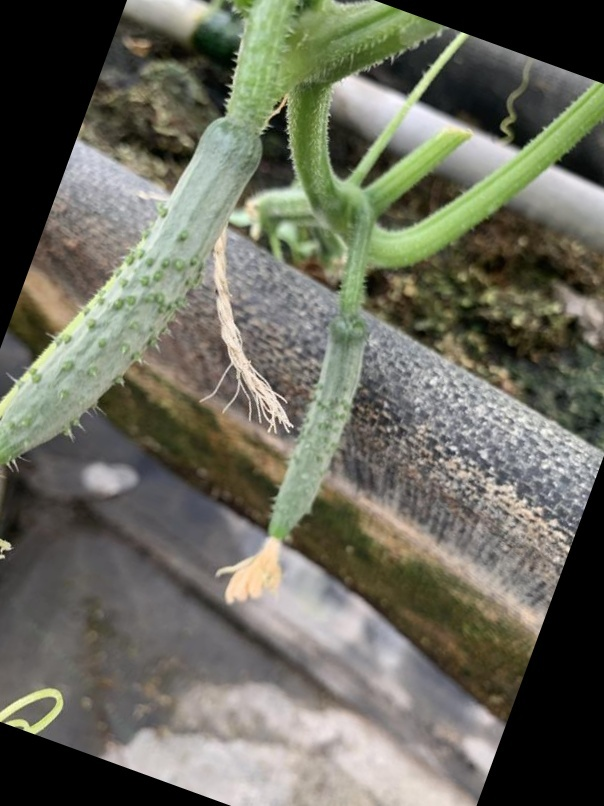bear: (238, 312, 378, 570)
growth: (0, 102, 265, 481)
